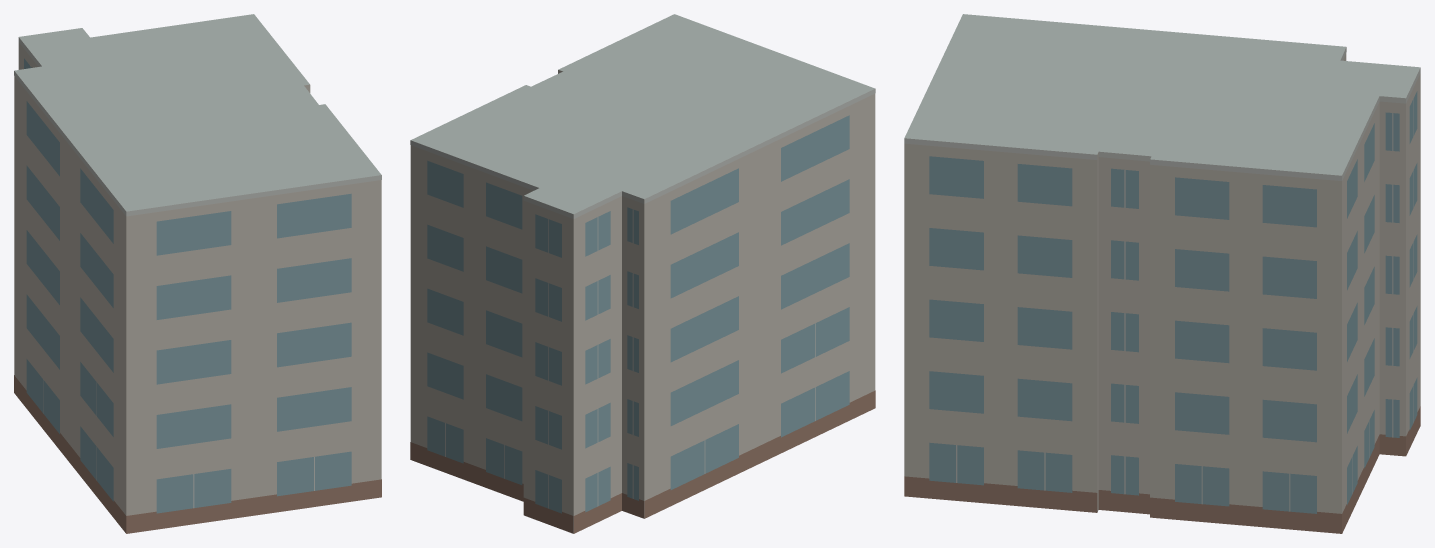
Rendered from survey-upis-32706608.glb.
3 views of the same model, side by side, from view 1: azimuth 30°, elevation 25°; view 2: azimuth 150°, elevation 25°; view 3: azimuth 270°, elevation 25° (orthographic). The views are drawn at different scales.
Visible parts, largest first — view 1: survey-upis-32706608.tmp; view 2: survey-upis-32706608.tmp; view 3: survey-upis-32706608.tmp.
Boxes of the visible parts, x1,y1,x2,y2 form: survey-upis-32706608.tmp: [14, 14, 381, 533]; survey-upis-32706608.tmp: [410, 14, 875, 533]; survey-upis-32706608.tmp: [904, 14, 1420, 533].
Bounding box in the file's own units: 15.7 × 16.2 × 21.18.
